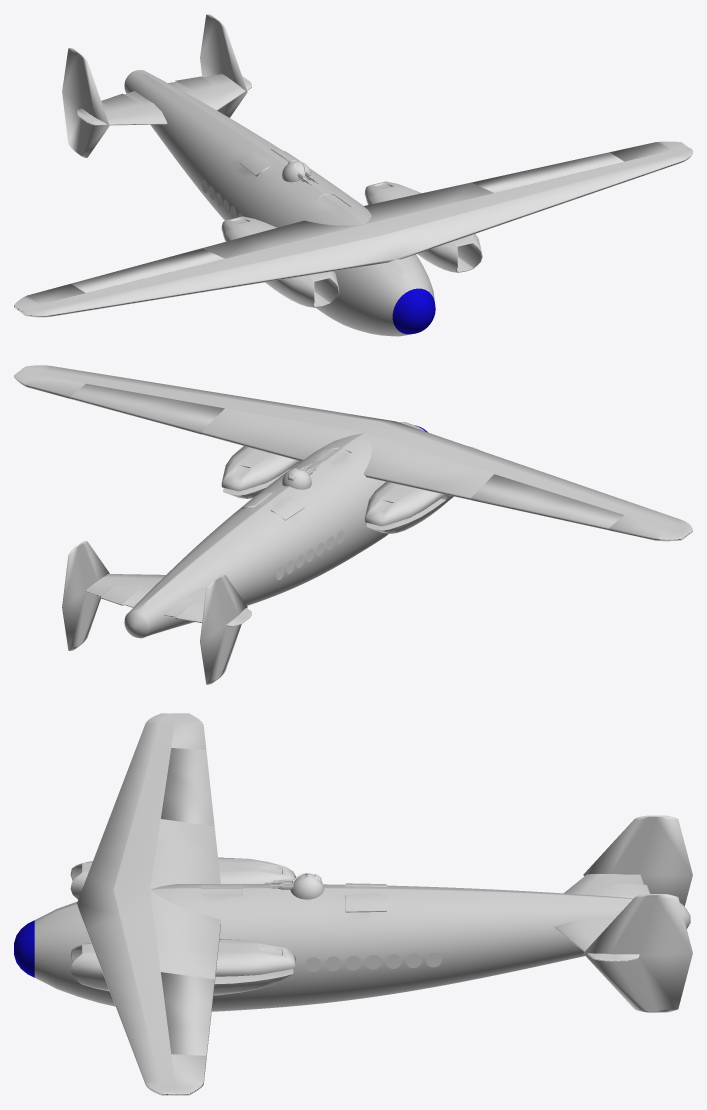
The model's file is Ship2.fbx.
3 renders of one model, top to bottom at view 1: azimuth 30°, elevation 25°; view 2: azimuth 150°, elevation 25°; view 3: azimuth 270°, elevation 25°, orthographic. The views are drawn at different scales.
Parts seen in each view (by area): view 1: Wings, Fusilage, Wings.002, Fenders, Wings.001, Flaps.R, Flaps.L; view 2: Wings, Fusilage, Wings.002, Fenders, Flaps.R, Flaps.L, Wings.001, Sphere; view 3: Fusilage, Wings, Wings.002, Fenders, Flaps.L, Flaps.R, Wings.001, Sphere.
Boxes of the visible parts, x1,y1,x2,y2 form: Wings: (14, 141, 692, 317); Fusilage: (124, 70, 435, 336); Wings.002: (62, 14, 247, 157); Fenders: (221, 181, 482, 307); Wings.001: (77, 74, 251, 125); Flaps.R: (71, 248, 224, 292); Flaps.L: (471, 152, 623, 192); Wings: (14, 365, 692, 541); Fusilage: (124, 422, 427, 638); Wings.002: (62, 541, 247, 684); Fenders: (221, 446, 479, 533); Flaps.R: (471, 474, 623, 530); Flaps.L: (70, 383, 224, 434); Wings.001: (85, 574, 251, 626); Sphere: (282, 468, 311, 489); Fusilage: (14, 883, 690, 1011); Wings: (77, 713, 220, 1095); Wings.002: (583, 815, 692, 1012); Fenders: (70, 857, 295, 995); Flaps.L: (161, 972, 214, 1057); Flaps.R: (161, 748, 214, 826); Wings.001: (555, 874, 649, 961); Sphere: (290, 873, 324, 899).
Bounding box in the file's own units: 2224 × 415 × 1681.
